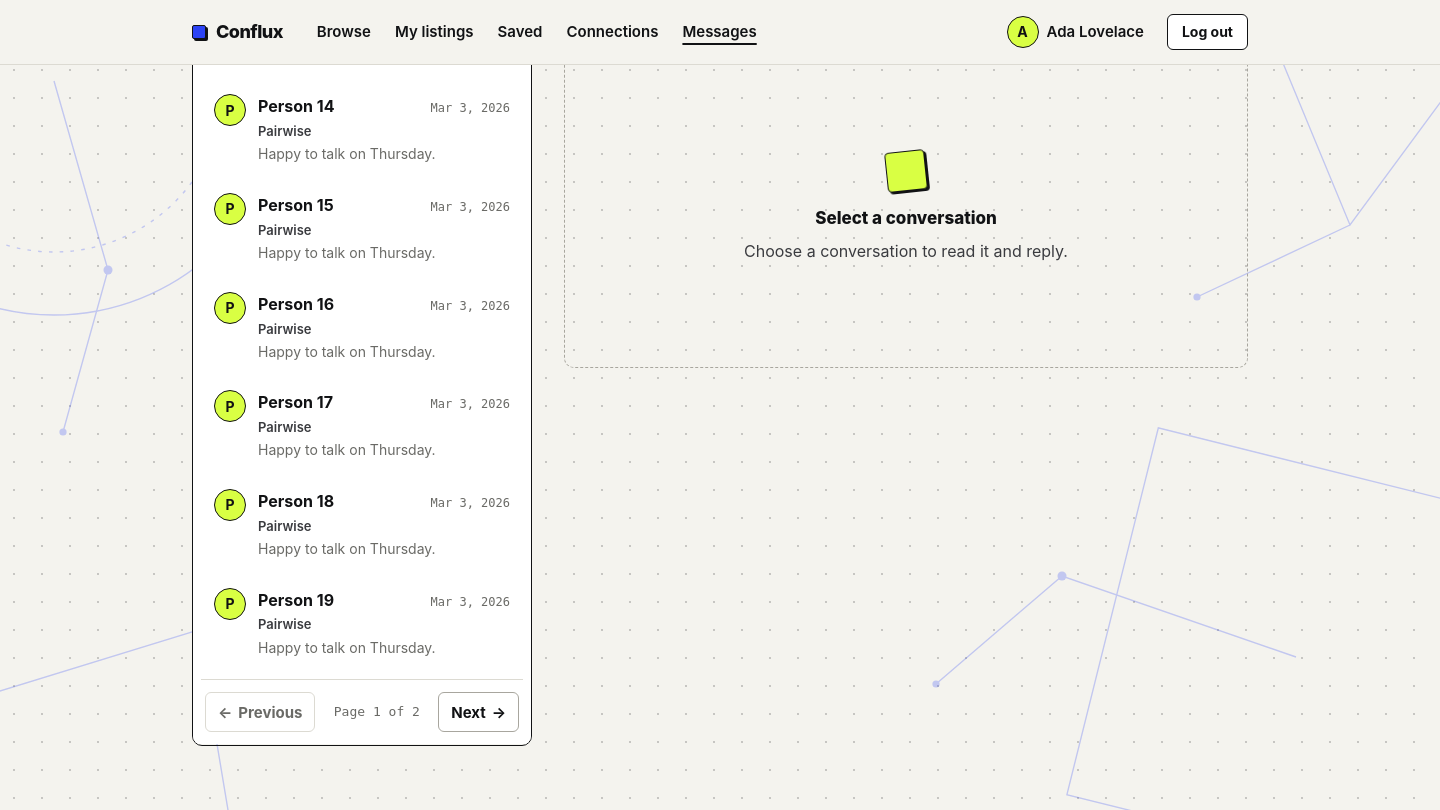
Scenario: Conversations list › paginates with the backend page metadata
(page scrolled)
Expected: the text "Page 1 of 2" is shown, [334,702,420,722]
Click the link "Next →": (479, 712) [438,692,519,732]
(page scrolled)
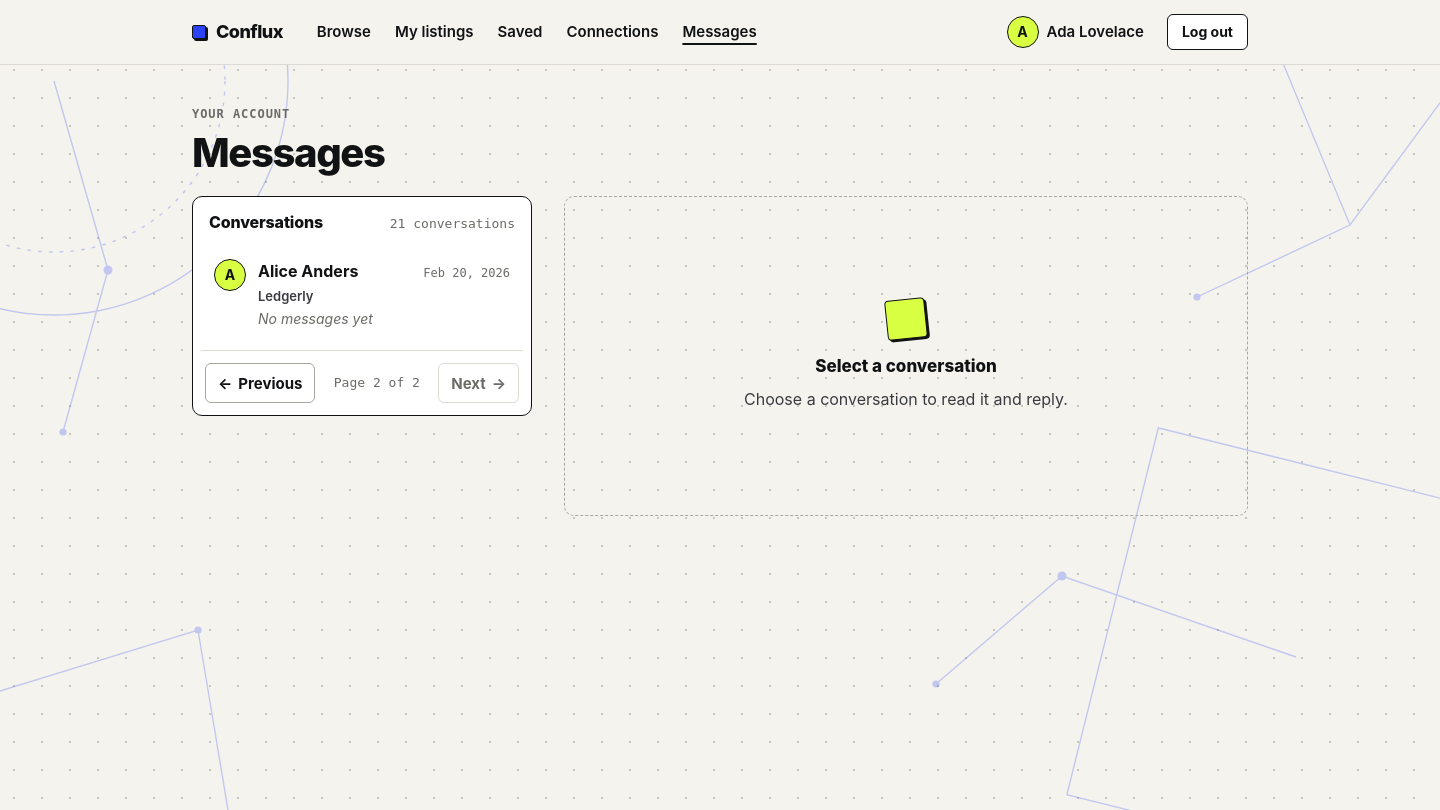
Now the link with aria-label "Alice Anders, Ledgerly" is shown, box [201,246,523,342]
